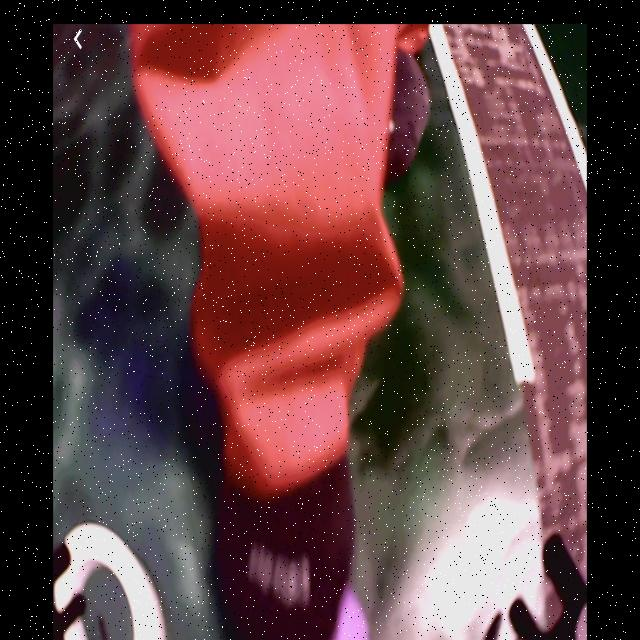ball: (335, 587, 371, 640)
